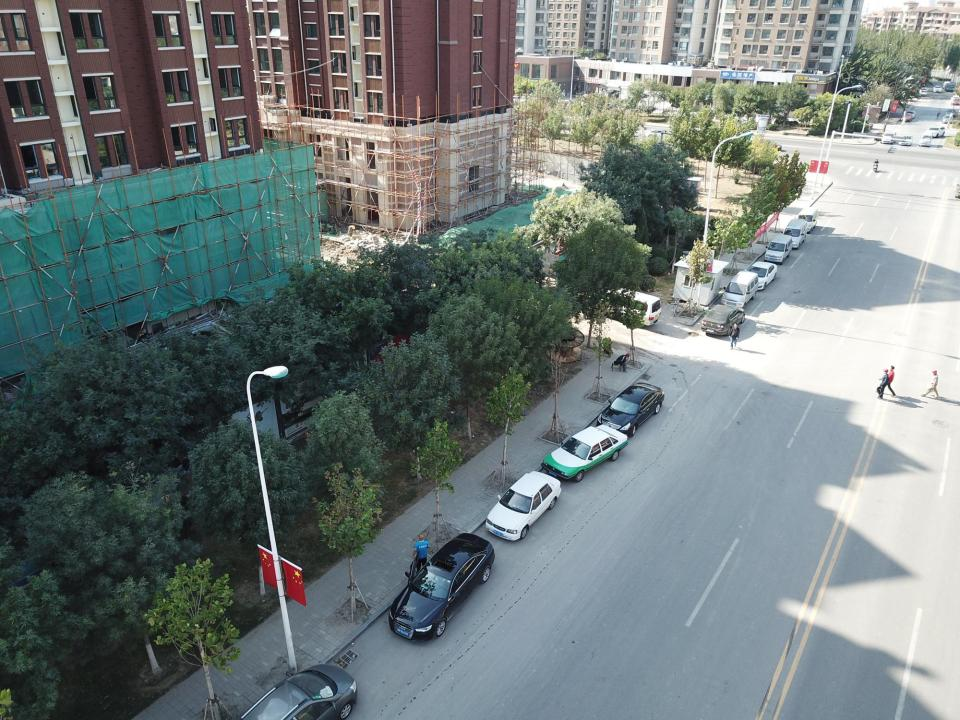car: (388, 534, 495, 642), (220, 664, 357, 719), (486, 471, 561, 540), (540, 424, 629, 482), (597, 382, 664, 436), (700, 304, 746, 336), (743, 261, 777, 290), (750, 138, 781, 151), (645, 129, 675, 142), (898, 135, 912, 145), (901, 113, 912, 122), (942, 115, 954, 123), (906, 110, 916, 119), (944, 109, 956, 116), (933, 85, 942, 92), (920, 90, 928, 97), (951, 98, 960, 104), (920, 87, 928, 93)
van: (584, 285, 661, 327), (720, 270, 758, 310), (764, 234, 791, 264), (780, 220, 807, 250), (794, 208, 818, 234), (926, 126, 946, 138), (880, 131, 896, 145), (920, 131, 932, 147), (945, 83, 954, 92), (950, 96, 959, 102), (942, 82, 950, 88)
